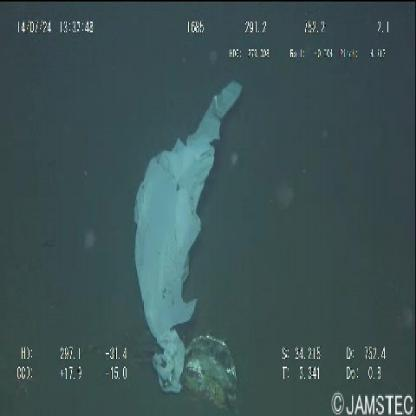Rác: (134, 80, 245, 394)
